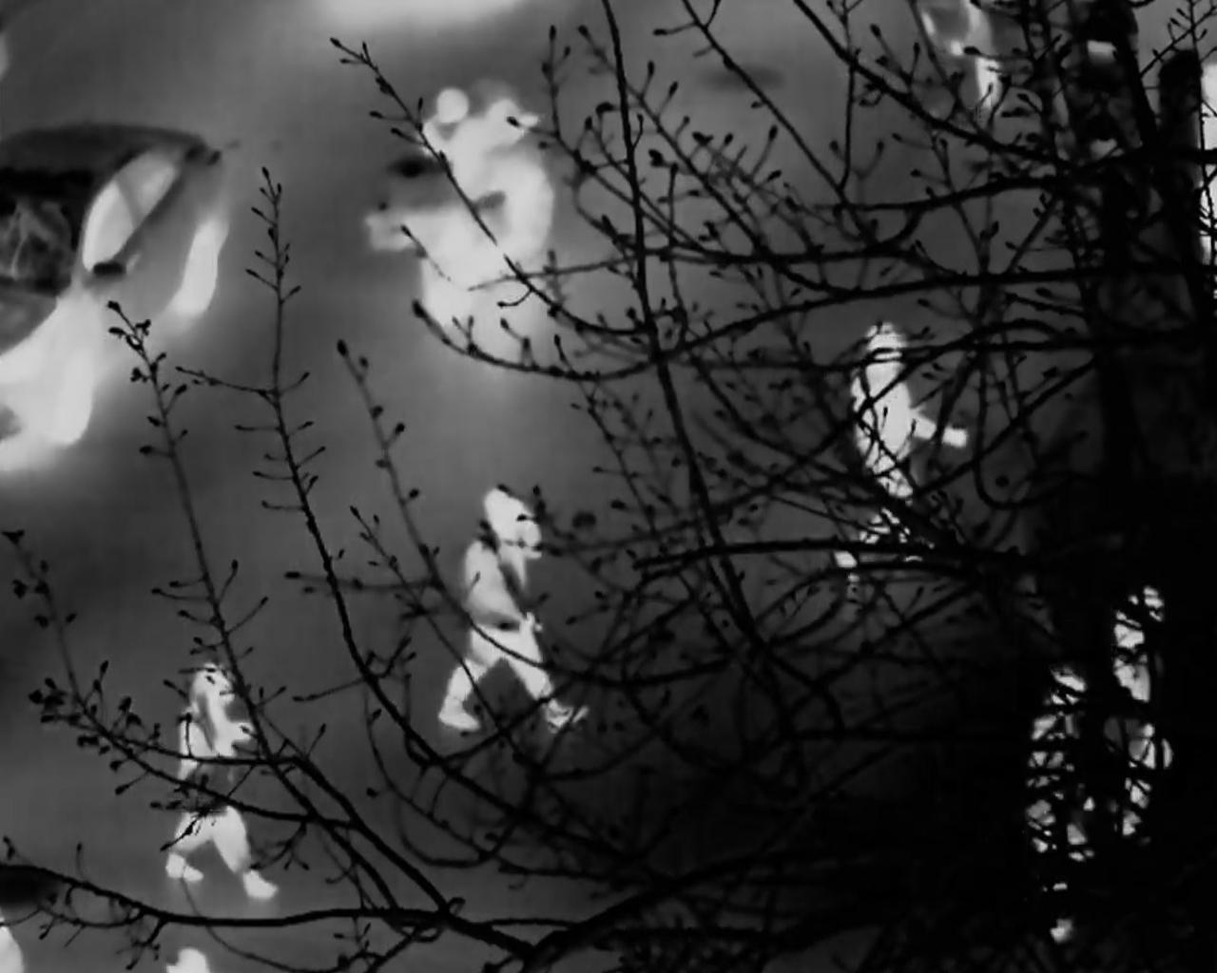person: (451, 481, 570, 732), (416, 89, 563, 266), (165, 668, 275, 903), (1106, 587, 1180, 851), (1026, 669, 1092, 938), (854, 315, 924, 536)
